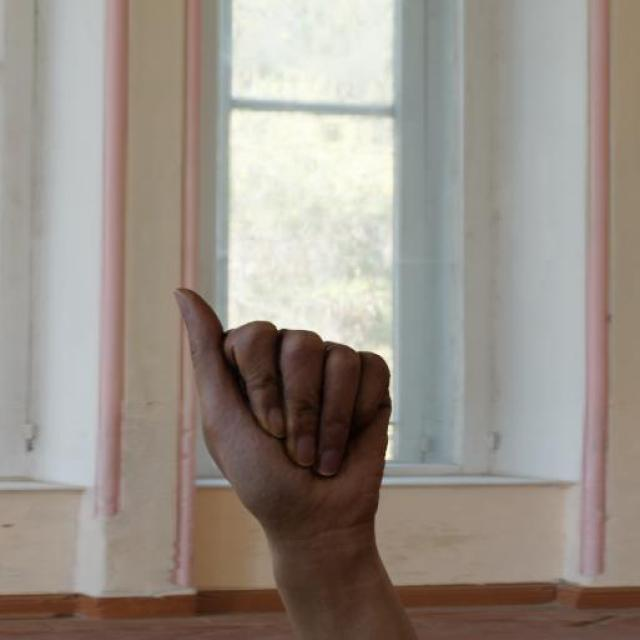A: (171, 280, 395, 534)
